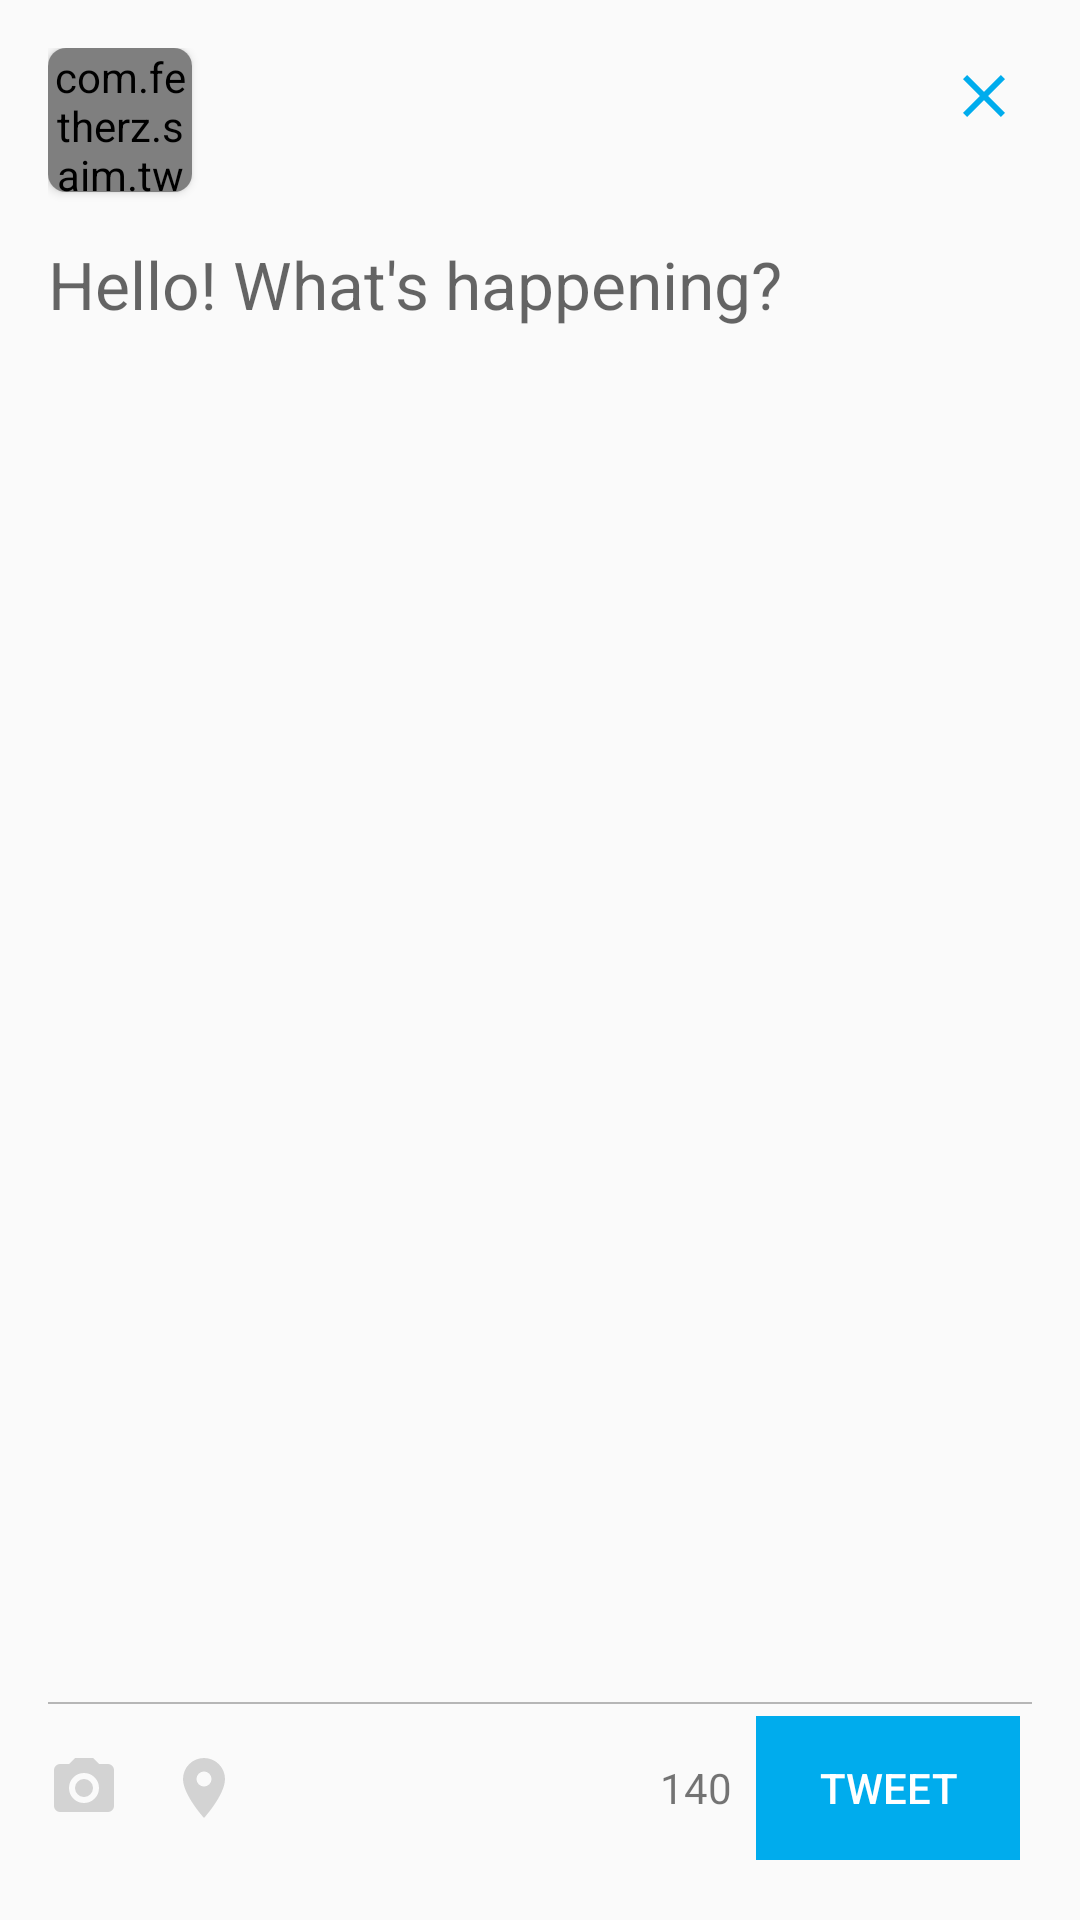

Locate icon controls on the screen. Image size 1080 × 1920, boxes as (x1, y1, x2, y2).
camera: (54, 1758, 114, 1812)
close: (963, 75, 1005, 117)
location: (183, 1758, 225, 1817)
